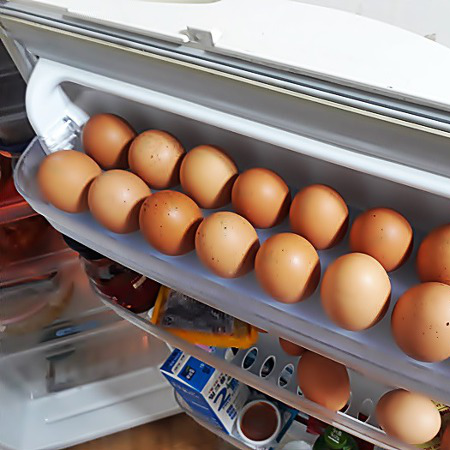egg: (39, 108, 450, 361), (274, 336, 447, 444)
